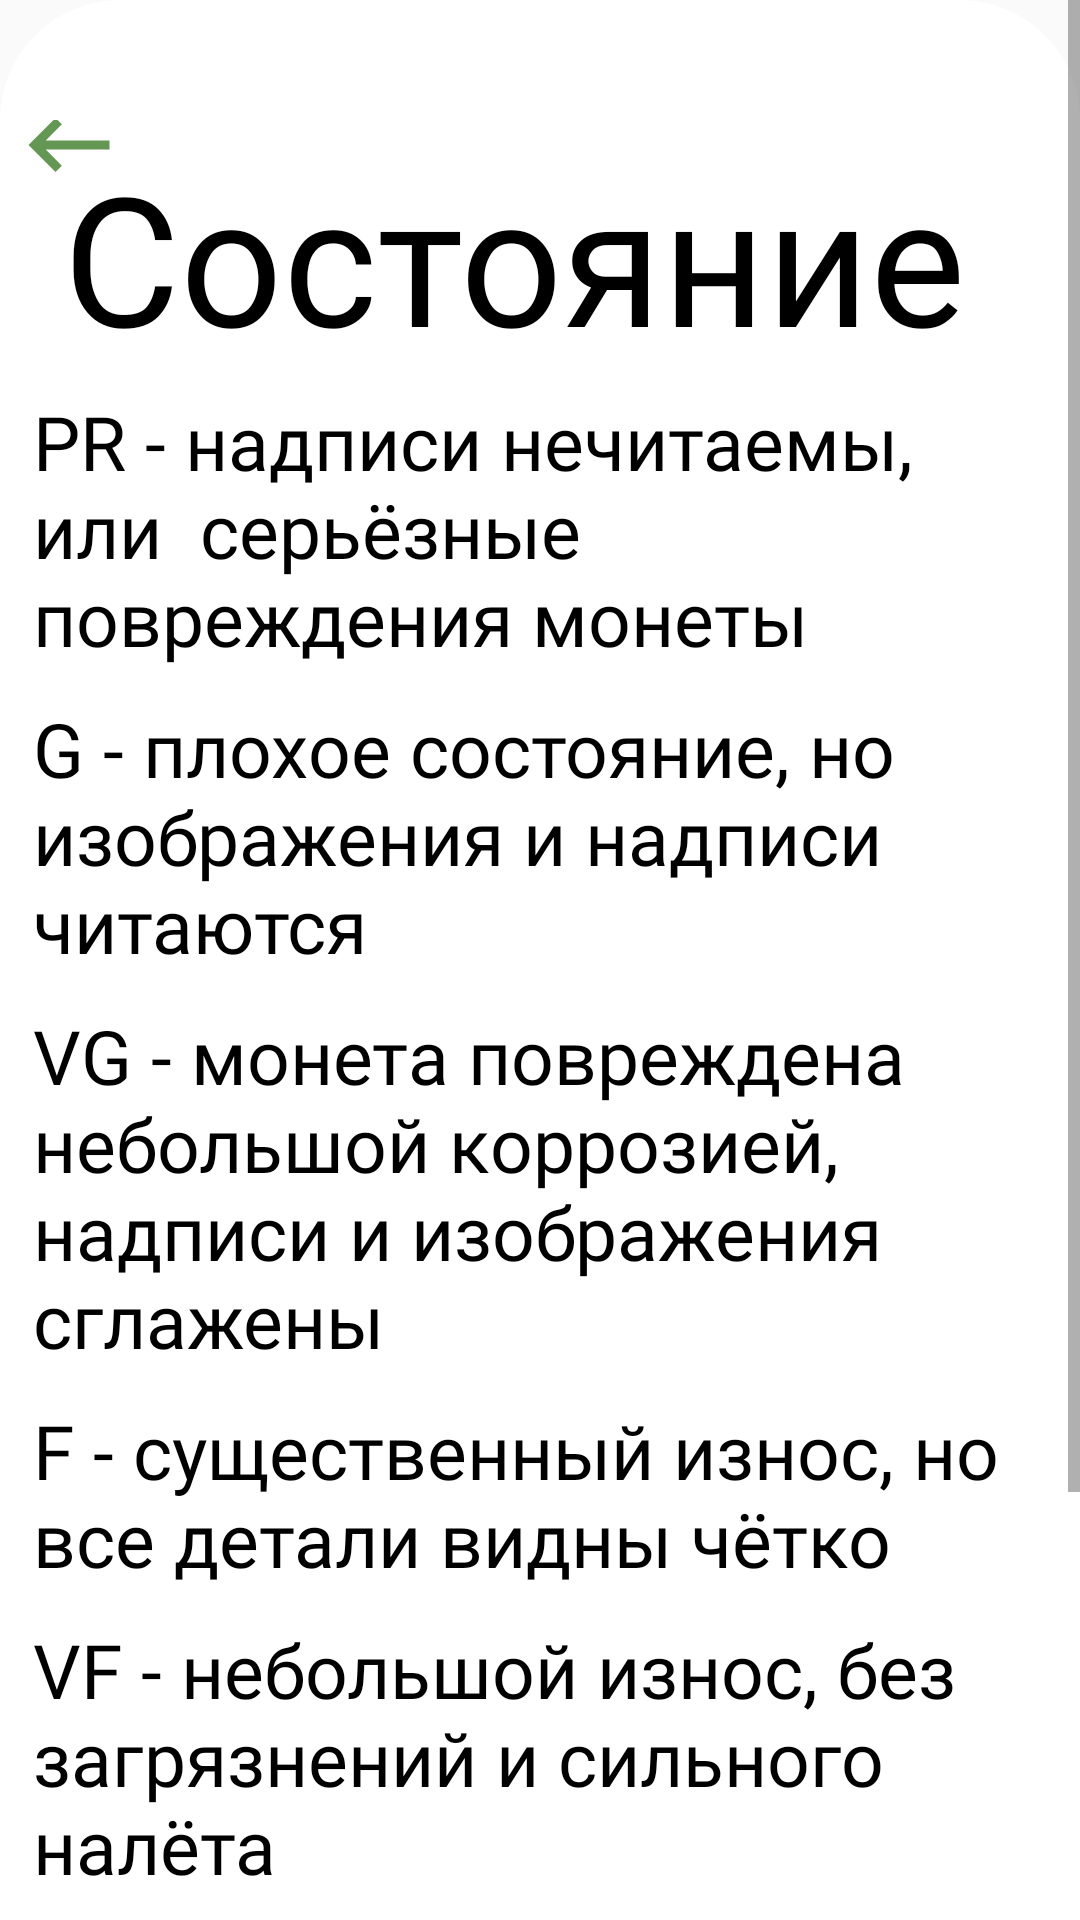

Screen size 1080*1920. Icon name, then its center in pixels as [x,y]:
keyboard backspace: [69,146]
